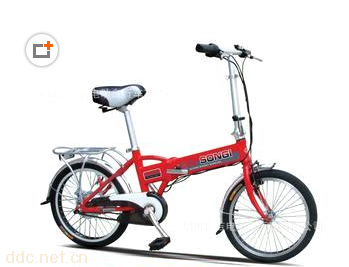MNV: (47, 43, 316, 261)
